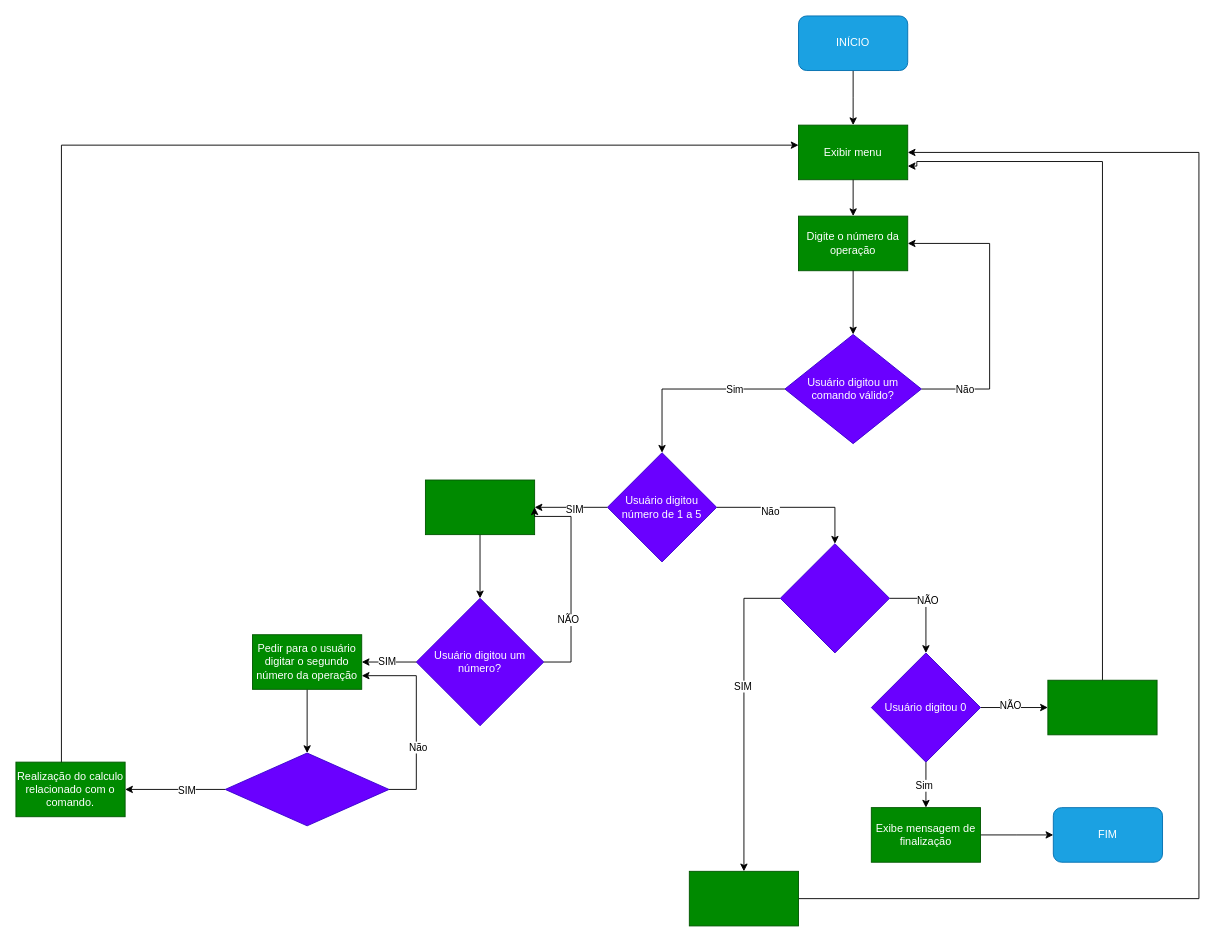
The diagram is 1222 pixels wide and 942 high, and some of its shapes have lost their labels. The shapes that lost their labels are listed below. From the top down, each one's box as (x1, y1, x2, y2) in pixels, then its label:
(425, 479, 535, 535): Pedir para o usuário digitar o primeiro número da operação
(779, 543, 890, 653): Usuário digitou 6
(1047, 679, 1157, 735): Exibe mensagem de erro
(224, 752, 389, 826): Usuário digitouo um número?
(688, 870, 799, 926): Exibe histórico das operações realizadas
